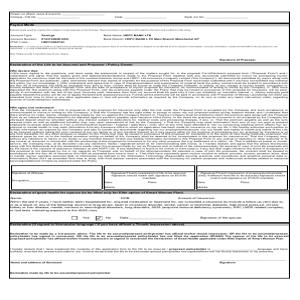text: (10, 105, 289, 162), (10, 23, 290, 62), (9, 68, 290, 100), (11, 200, 284, 212), (10, 11, 290, 22), (10, 232, 288, 240), (10, 247, 288, 254), (198, 171, 286, 180), (10, 223, 185, 226), (9, 270, 112, 275), (111, 171, 189, 176), (12, 178, 70, 183), (199, 216, 243, 221), (10, 260, 64, 264), (12, 171, 45, 176), (177, 196, 216, 200), (219, 260, 238, 265), (81, 215, 91, 220), (10, 196, 22, 200), (120, 196, 132, 200), (119, 216, 131, 220), (142, 177, 157, 180), (147, 181, 157, 185), (240, 180, 250, 184), (105, 215, 113, 220), (197, 186, 210, 189), (105, 186, 116, 189), (105, 181, 113, 184), (198, 181, 206, 184)
